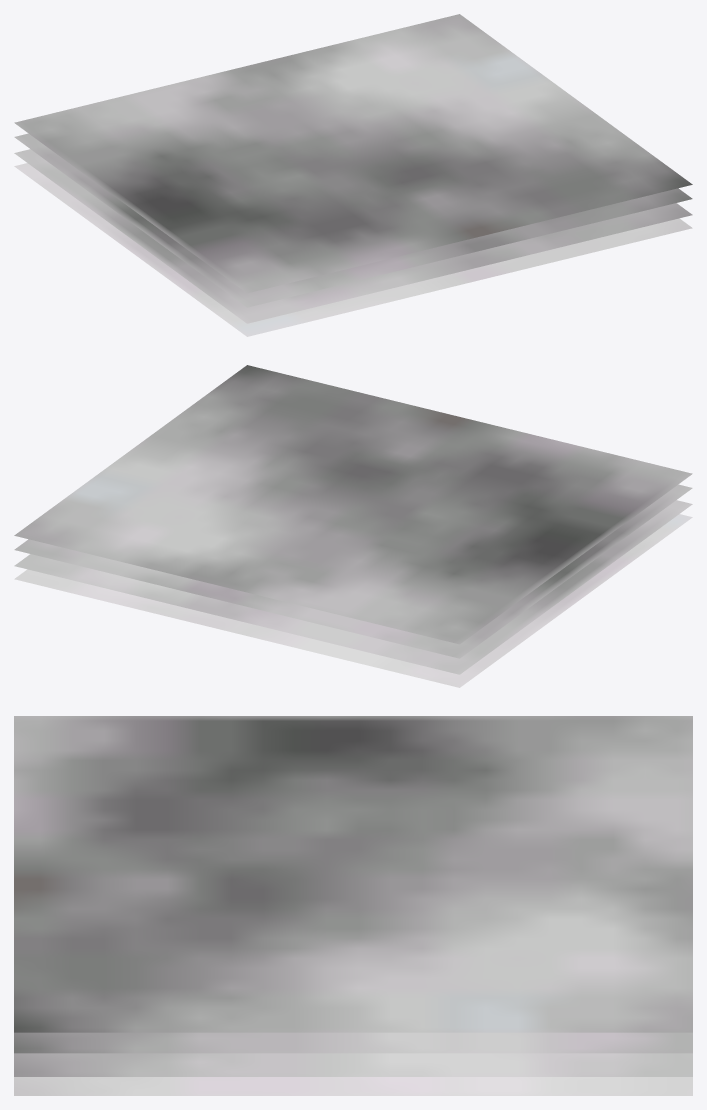
Rendered from SWORDLIGHT20_MAINCAVERNCLOUDS10.fbx.
3 views of the same model, one above another, from view 1: azimuth 30°, elevation 25°; view 2: azimuth 150°, elevation 25°; view 3: azimuth 270°, elevation 25° (orthographic). The views are drawn at different scales.
Parts seen in each view (by area): view 1: SWORDLIGHT20_MAINCAVERNCLOUDS10; view 2: SWORDLIGHT20_MAINCAVERNCLOUDS10; view 3: SWORDLIGHT20_MAINCAVERNCLOUDS10.
Boxes of the visible parts, x1,y1,x2,y2 form: SWORDLIGHT20_MAINCAVERNCLOUDS10: [14, 14, 692, 336]; SWORDLIGHT20_MAINCAVERNCLOUDS10: [14, 365, 692, 687]; SWORDLIGHT20_MAINCAVERNCLOUDS10: [14, 716, 692, 1095].
Size of the model in its own units: 161490 by 15056 by 146334.
Materials: 4 (4 with a texture image).
